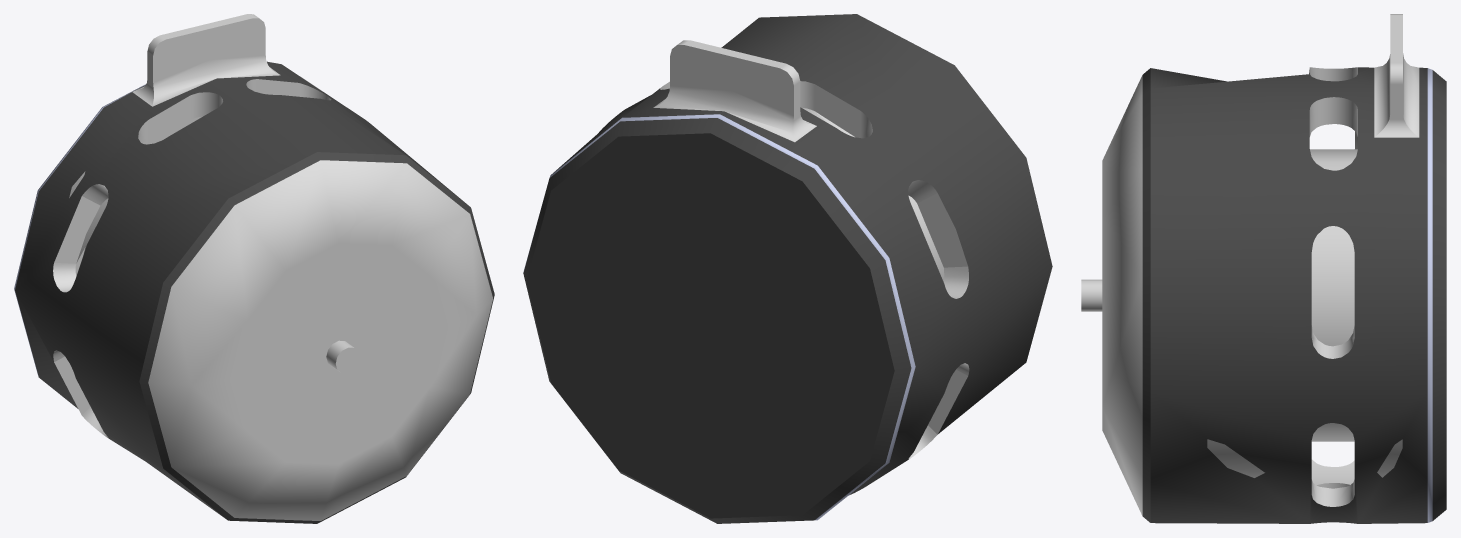
File: 2306motor.dae
3 views of the same model, side by side, from view 1: azimuth 30°, elevation 25°; view 2: azimuth 150°, elevation 25°; view 3: azimuth 270°, elevation 25° (orthographic). The views are drawn at different scales.
Parts seen in each view (by area): view 1: VERT-M2.0-E3.0-F2.0-SC1.0-PCK1.0, _ncl1_4, _ncl1_2; view 2: _ncl1_4, VERT-M2.0-E3.0-F2.0-SC1.0-PCK1.0, _ncl1_2; view 3: _ncl1_4, VERT-M2.0-E3.0-F2.0-SC1.0-PCK1.0, _ncl1_2.
Boxes of the visible parts, <box> form: VERT-M2.0-E3.0-F2.0-SC1.0-PCK1.0: <box>53,14,492,520</box>; _ncl1_4: <box>15,61,494,523</box>; _ncl1_2: <box>14,84,145,375</box>; _ncl1_4: <box>523,14,1052,523</box>; VERT-M2.0-E3.0-F2.0-SC1.0-PCK1.0: <box>653,40,969,459</box>; _ncl1_2: <box>523,114,915,520</box>; _ncl1_4: <box>1142,67,1446,523</box>; VERT-M2.0-E3.0-F2.0-SC1.0-PCK1.0: <box>1081,14,1419,515</box>; _ncl1_2: <box>1427,68,1432,522</box>.
Size of the model in its own units: 0.0284 by 0.0318 by 0.0227.
